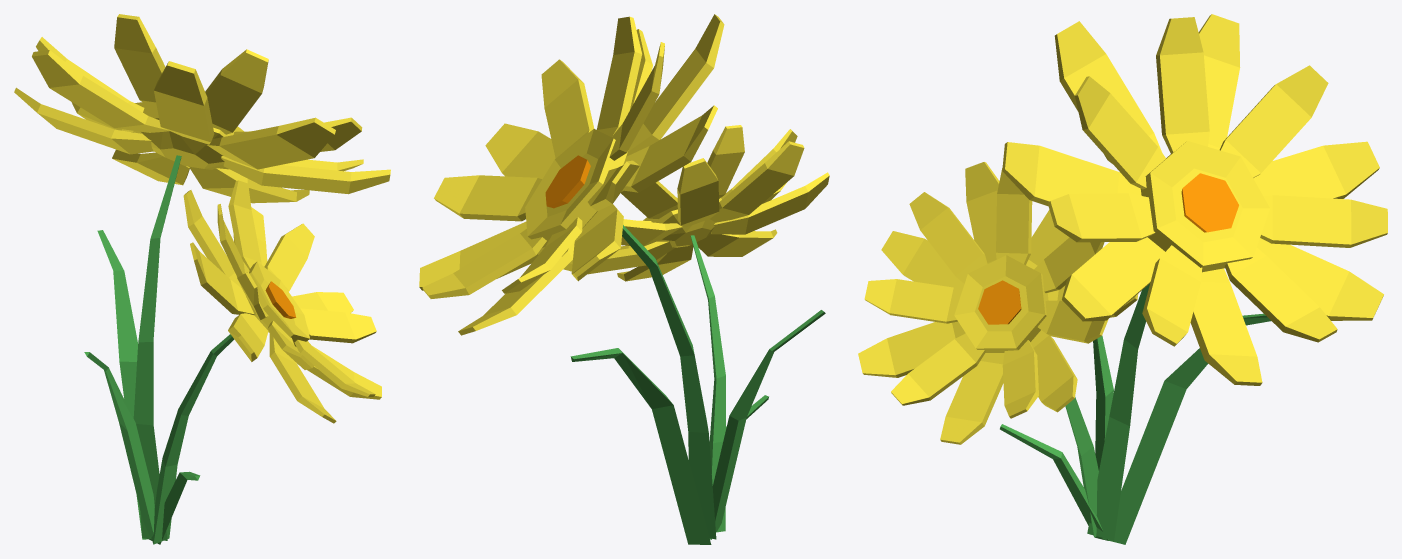
3 views of the same model, side by side, from view 1: azimuth 30°, elevation 25°; view 2: azimuth 150°, elevation 25°; view 3: azimuth 270°, elevation 25° (orthographic). The views are drawn at different scales.
Parts seen in each view (by area): view 1: default; view 2: default; view 3: default.
Part boxes in pixels (bbox=[...]): default: bbox=[14, 14, 390, 544]; default: bbox=[419, 14, 829, 544]; default: bbox=[858, 14, 1387, 544].
Size of the model in its own units: 2.42 by 3.58 by 3.25.
